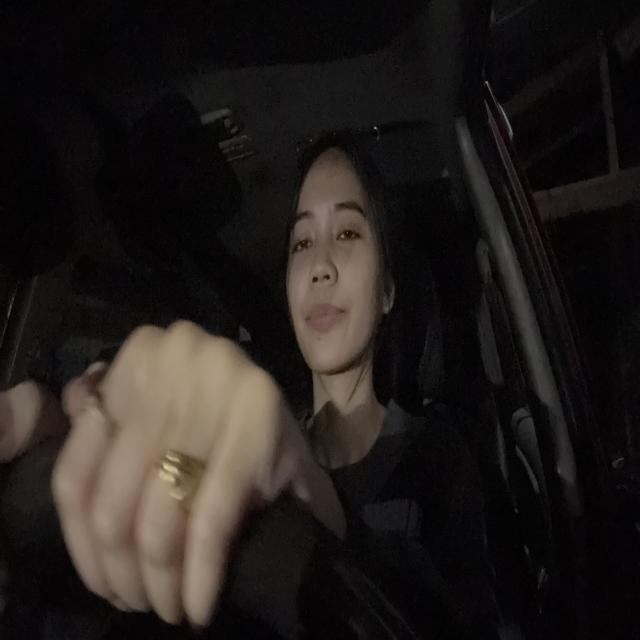open: (334, 198, 370, 252), (293, 202, 318, 269)
